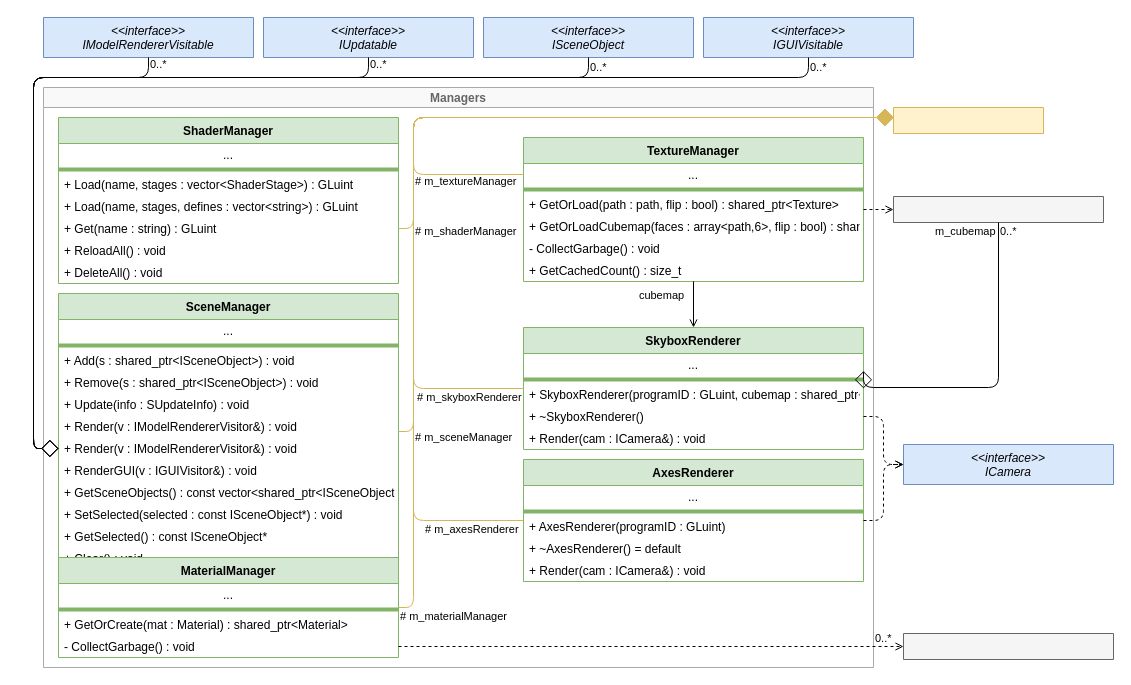
The diagram is 1131 pixels wide and 685 high, and some of its shapes have lost their labels. The centre of each missing label's shape, as x and y in pixels:
"Material" belongs at point (1008, 646).
"MyApp" belongs at point (968, 120).
"Texture" belongs at point (998, 209).
